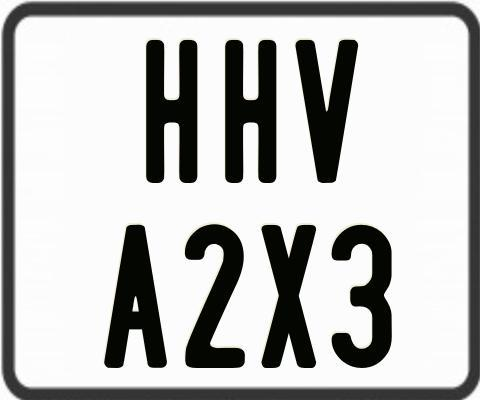2: (183, 222, 245, 369)
3: (330, 222, 390, 366)
A: (103, 225, 168, 373)
H: (145, 40, 199, 189), (224, 39, 276, 186)
V: (292, 37, 358, 184)
X: (261, 222, 316, 366)
